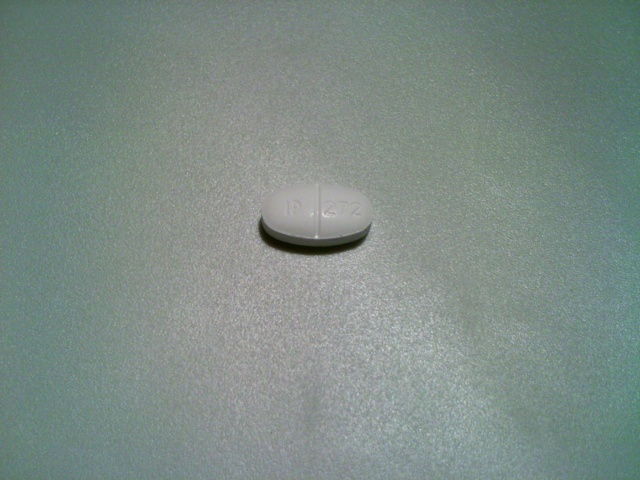2: (323, 198, 339, 219), (351, 201, 365, 219)
7: (339, 199, 350, 218)
I: (282, 198, 290, 216)
P: (291, 198, 303, 218)
|: (311, 179, 324, 244)
